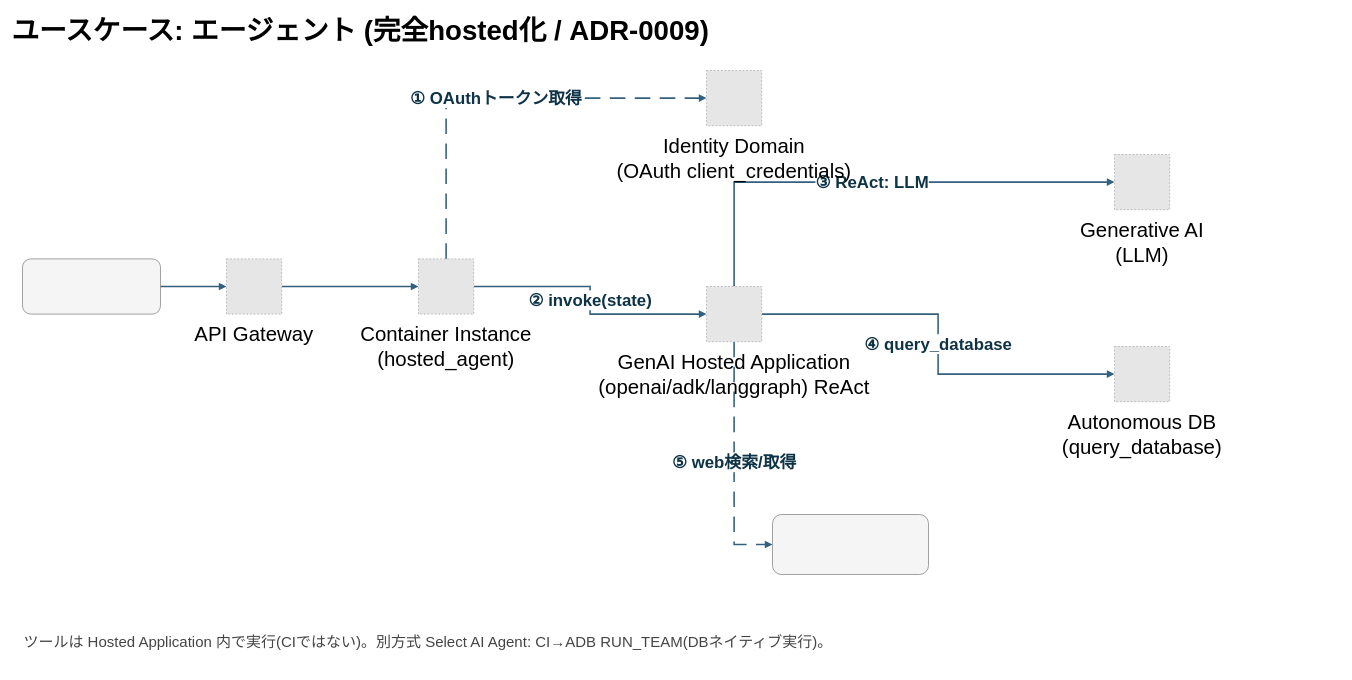
Image size: 1352x680. Some labels were removed from this diagram. Grey dashed boxes stand in for pictures. Here are the shapes that lost their labels. From the top down, the centre of each, then its label:
At pixel 91 286: "ユーザー ブラウザ(SPA)".
At pixel 850 544: "外部 DuckDuckGo / Web".
